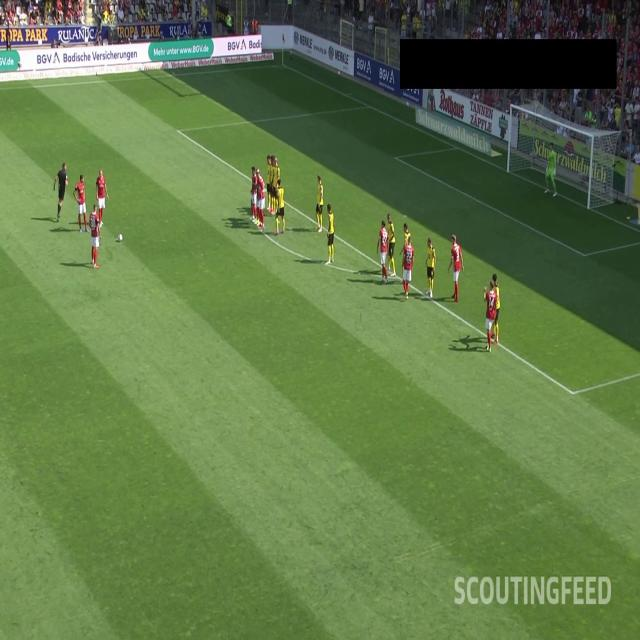ball: (116, 230, 125, 245)
player: (447, 231, 464, 302), (482, 278, 498, 350), (376, 217, 390, 285), (398, 210, 412, 278), (402, 235, 416, 303), (94, 168, 109, 230), (73, 174, 88, 234), (542, 141, 558, 197), (88, 206, 101, 271), (324, 202, 336, 267), (274, 174, 286, 237), (424, 236, 436, 299), (314, 168, 325, 234), (386, 210, 396, 278), (492, 272, 501, 346), (274, 154, 281, 218), (259, 170, 265, 234), (250, 162, 256, 222), (256, 166, 262, 226), (266, 154, 272, 213), (270, 151, 274, 215)
referee: (52, 160, 69, 223)
